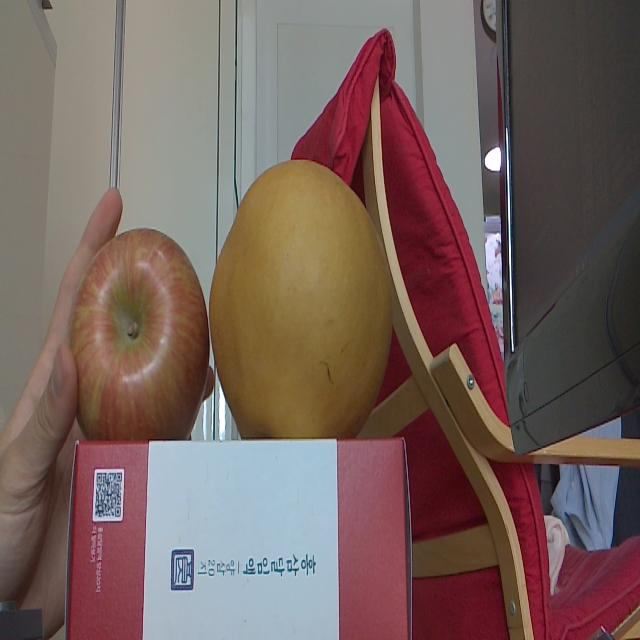apple: (70, 231, 209, 441)
pear: (209, 158, 393, 444)
